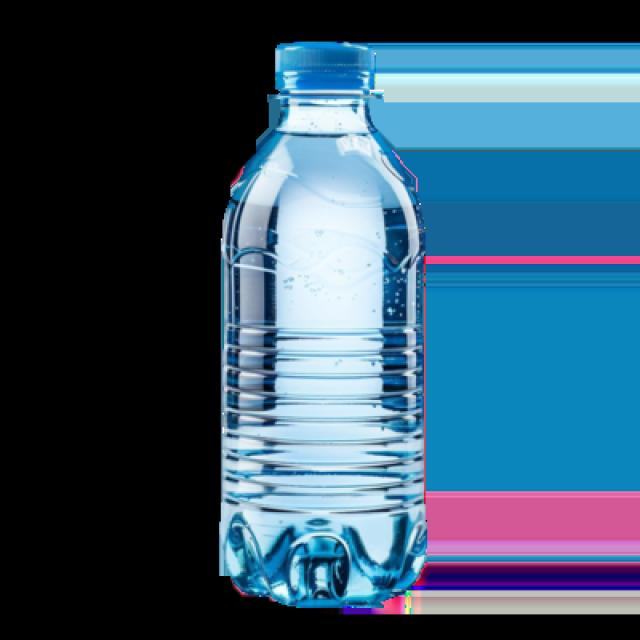Bottle: (201, 37, 431, 609)
